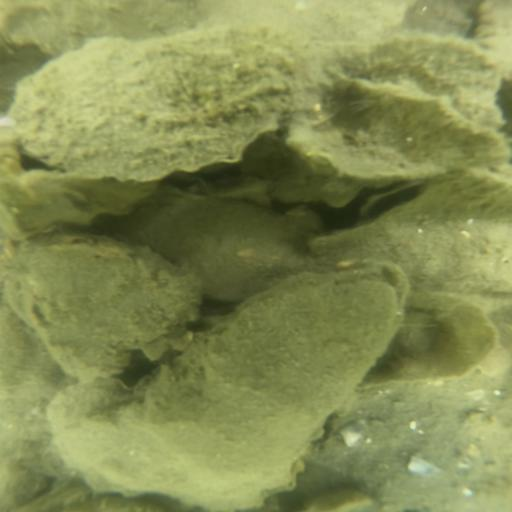Oyster-Closed: (1, 23, 374, 190), (45, 378, 272, 512), (10, 236, 200, 376), (317, 174, 507, 313), (125, 195, 307, 302), (369, 32, 509, 135)
Oyster-Open: (108, 266, 417, 504)
